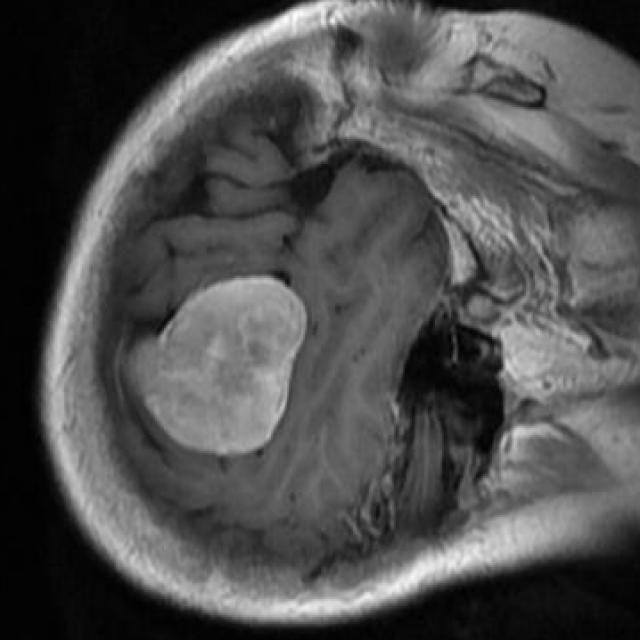meningioma: (134, 276, 308, 456)
